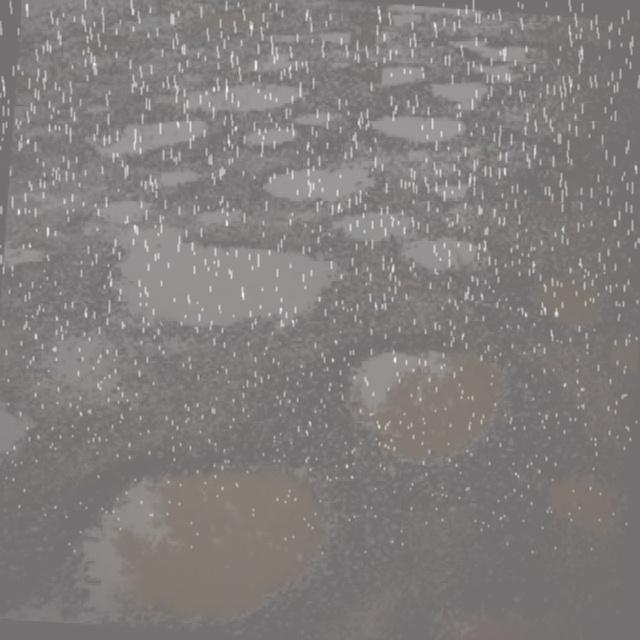Pothole: (70, 443, 324, 640), (90, 184, 342, 340), (352, 313, 516, 505), (531, 446, 640, 534), (29, 324, 140, 405), (512, 257, 603, 335), (80, 110, 204, 164), (256, 160, 378, 210), (394, 226, 508, 277), (187, 74, 313, 111), (358, 110, 477, 144), (455, 27, 557, 66), (0, 405, 53, 471), (336, 204, 408, 250), (0, 214, 43, 286), (360, 54, 438, 93), (428, 74, 503, 114), (382, 0, 478, 31), (233, 122, 299, 157), (269, 28, 359, 46), (258, 48, 306, 74), (291, 115, 336, 124)
